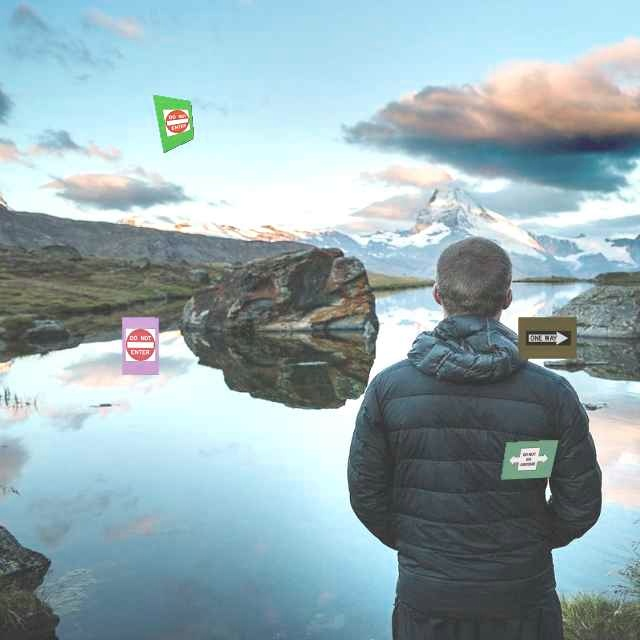DO_NOT_ENTER: (123, 328, 158, 362), (163, 109, 190, 137)
DO_NOT_GO_AROUND: (507, 447, 551, 472)
ONE_WAY_ right: (526, 331, 571, 345)
